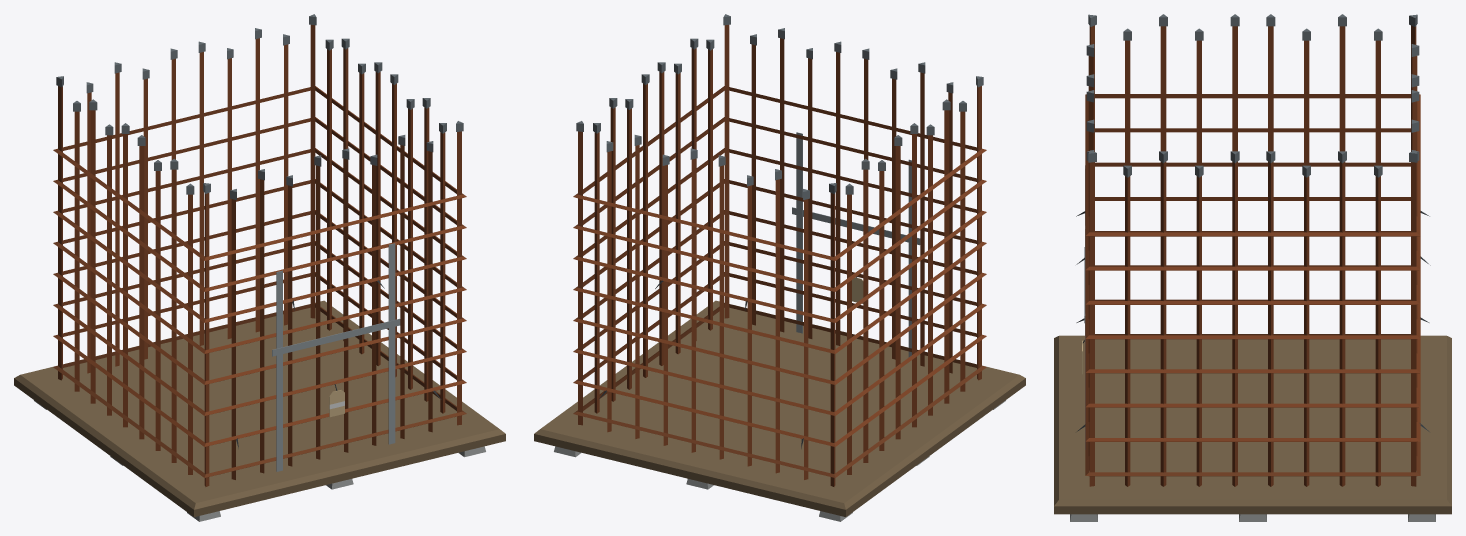
Rendered from rebar-assembly-889031.glb.
3 views of the same model, side by side, from view 1: azimuth 30°, elevation 25°; view 2: azimuth 150°, elevation 25°; view 3: azimuth 270°, elevation 25° (orthographic). The views are drawn at different scales.
Visible parts, largest first — view 1: rebar; view 2: rebar; view 3: rebar.
Part boxes in pixels (x1=…): rebar: x1=14, y1=14, x2=505, y2=521; rebar: x1=534, y1=14, x2=1025, y2=521; rebar: x1=1054, y1=14, x2=1451, y2=521.
Bounding box in the file's own units: 2 × 2 × 2.
